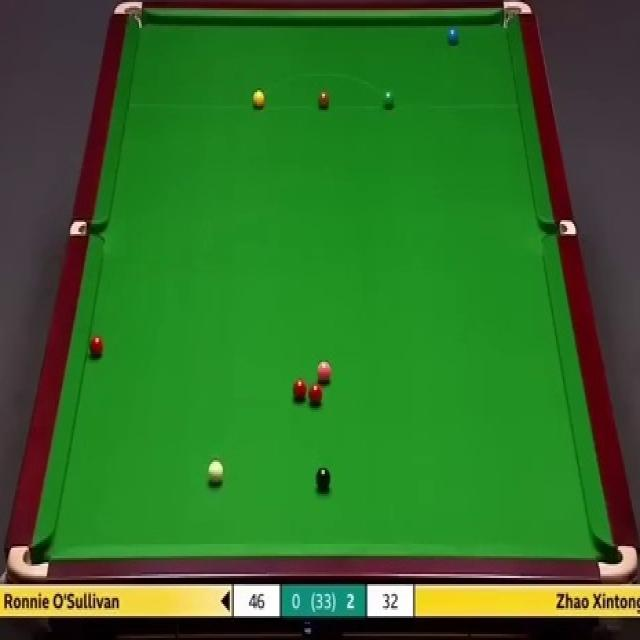black-ball: (315, 467, 331, 487)
blue-ball: (446, 27, 460, 46)
brown-ball: (317, 92, 330, 109)
green-ball: (382, 88, 396, 112)
pink-ball: (316, 361, 332, 384)
red-ball: (309, 383, 323, 410), (292, 378, 307, 401), (88, 336, 105, 356)
white-ball: (208, 458, 225, 488)
yellow-ball: (252, 89, 266, 110)
